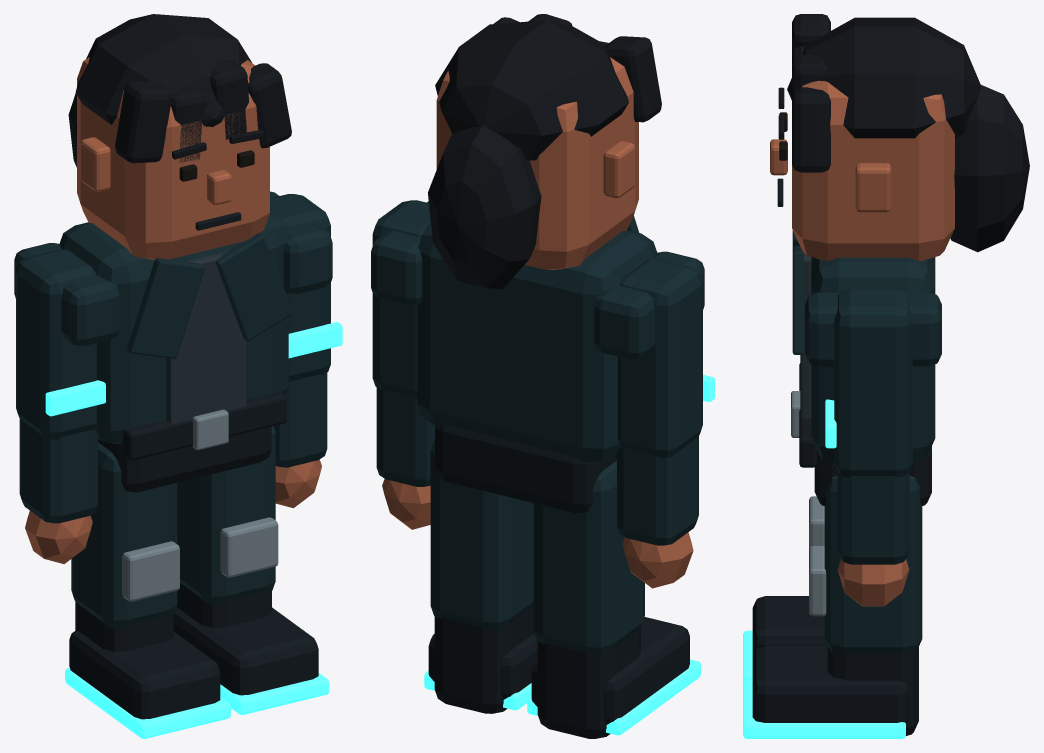
Rendered from agent-friday.glb.
3 views of the same model, side by side, from view 1: azimuth 30°, elevation 25°; view 2: azimuth 150°, elevation 25°; view 3: azimuth 270°, elevation 25° (orthographic). The views are drawn at different scales.
Visible parts, largest first — view 1: head_mesh, torso_mesh, hair_cap, upper_arm_-1, thigh_mesh_-1, thigh_mesh_1, boot_-1, shirt_panel, boot_1, forearm_mesh_-1, waist_mesh, lapel_-1 (+23 smaller); view 2: torso_mesh, hair_cap, thigh_mesh_-1, ponytail, thigh_mesh_1, upper_arm_-1, head_mesh, waist_mesh, forearm_mesh_-1, shin_mesh_-1, shin_mesh_1, upper_arm_1 (+11 smaller); view 3: head_mesh, hair_cap, upper_arm_1, ponytail, boot_1, thigh_mesh_1, torso_mesh, forearm_mesh_1, shoulder_pad_1, boot_-1, hair_lock_3, shin_mesh_1 (+14 smaller).
Boxes of the visible parts, x1=… form: head_mesh: x1=77, y1=57, x2=269, y2=259; torso_mesh: x1=59, y1=211, x2=288, y2=443; hair_cap: x1=75, y1=14, x2=251, y2=126; upper_arm_-1: x1=16, y1=250, x2=96, y2=439; thigh_mesh_-1: x1=71, y1=442, x2=177, y2=629; thigh_mesh_1: x1=177, y1=426, x2=275, y2=605; boot_-1: x1=69, y1=630, x2=220, y2=719; shirt_panel: x1=166, y1=250, x2=246, y2=424; boot_1: x1=173, y1=607, x2=318, y2=695; forearm_mesh_-1: x1=19, y1=419, x2=97, y2=523; waist_mesh: x1=98, y1=426, x2=271, y2=492; lapel_-1: x1=127, y1=258, x2=204, y2=358; torso_mesh: x1=417, y1=222, x2=657, y2=462; hair_cap: x1=435, y1=20, x2=628, y2=160; thigh_mesh_-1: x1=533, y1=461, x2=644, y2=656; ponytail: x1=428, y1=124, x2=541, y2=289; thigh_mesh_1: x1=430, y1=438, x2=533, y2=631; upper_arm_-1: x1=618, y1=259, x2=702, y2=458; head_mesh: x1=436, y1=57, x2=638, y2=269; waist_mesh: x1=435, y1=424, x2=616, y2=513; forearm_mesh_-1: x1=617, y1=436, x2=698, y2=545; shin_mesh_-1: x1=537, y1=628, x2=640, y2=738; shin_mesh_1: x1=434, y1=606, x2=534, y2=713; upper_arm_1: x1=372, y1=200, x2=430, y2=397; head_mesh: x1=792, y1=80, x2=954, y2=261; hair_cap: x1=787, y1=17, x2=980, y2=138; upper_arm_1: x1=834, y1=289, x2=912, y2=477; ponytail: x1=950, y1=84, x2=1029, y2=252; boot_1: x1=752, y1=645, x2=909, y2=724; thigh_mesh_1: x1=824, y1=475, x2=922, y2=654; torso_mesh: x1=811, y1=257, x2=935, y2=462; forearm_mesh_1: x1=837, y1=471, x2=909, y2=564; shoulder_pad_1: x1=805, y1=292, x2=941, y2=366; boot_-1: x1=752, y1=596, x2=827, y2=656; hair_lock_3: x1=792, y1=87, x2=830, y2=172; shin_mesh_1: x1=827, y1=646, x2=918, y2=735.
Bounding box in the file's own units: 1.07 × 2.28 × 0.88.
